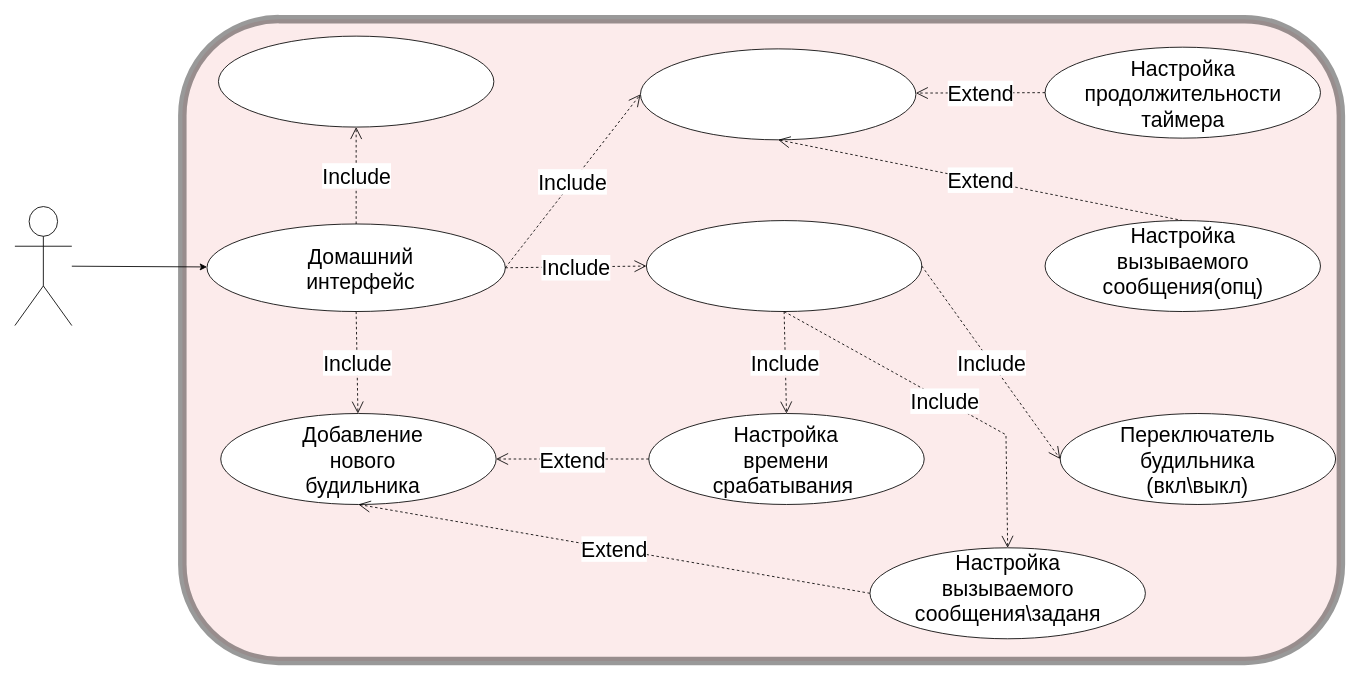
The diagram is 1360 pixels wide and 679 high, and some of its shapes have lost their labels. The shapes that lost their labels are listed below. From the top down, each one's box as (x1, y1, x2, y2) in pixels, then its label:
(218, 35, 494, 127): Общие настройки\о приложении
(640, 48, 916, 140): Добавление нового таймера
(14, 206, 72, 326): USER
(646, 220, 922, 312): Список созданных будильников
